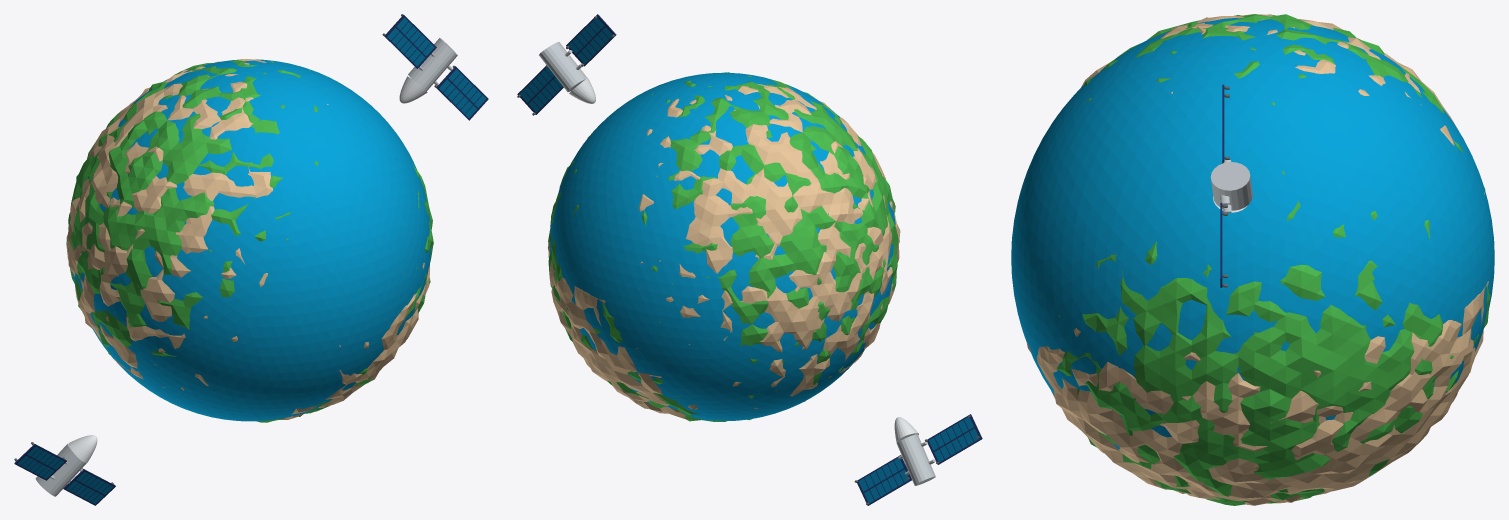
File: tinker.obj
3 renders of one model, left to right at view 1: azimuth 30°, elevation 25°; view 2: azimuth 150°, elevation 25°; view 3: azimuth 270°, elevation 25°, orthographic. The views are drawn at different scales.
Parts seen in each view (by area): view 1: group_0_40919, group_0_4634441, group_0_14860437, group_0_30377, group_0_12568524, group_0_1650274, group_0_14541540; view 2: group_0_40919, group_0_14860437, group_0_4634441, group_0_30377, group_0_12568524, group_0_1650274, group_0_14541540; view 3: group_0_40919, group_0_4634441, group_0_14860437, group_0_12568524.
Boxes of the visible parts, x1=… form: group_0_40919: x1=72, y1=59, x2=430, y2=421; group_0_4634441: x1=67, y1=60, x2=433, y2=422; group_0_14860437: x1=66, y1=59, x2=429, y2=419; group_0_30377: x1=17, y1=17, x2=486, y2=504; group_0_12568524: x1=35, y1=38, x2=457, y2=496; group_0_1650274: x1=14, y1=14, x2=488, y2=505; group_0_14541540: x1=69, y1=76, x2=427, y2=463; group_0_40919: x1=550, y1=72, x2=897, y2=420; group_0_14860437: x1=548, y1=73, x2=900, y2=419; group_0_4634441: x1=548, y1=72, x2=899, y2=421; group_0_30377: x1=519, y1=17, x2=979, y2=503; group_0_12568524: x1=539, y1=42, x2=935, y2=485; group_0_1650274: x1=517, y1=14, x2=982, y2=505; group_0_14541540: x1=569, y1=78, x2=918, y2=442; group_0_40919: x1=1011, y1=18, x2=1494, y2=449; group_0_4634441: x1=1040, y1=14, x2=1490, y2=505; group_0_14860437: x1=1026, y1=14, x2=1488, y2=505; group_0_12568524: x1=1210, y1=160, x2=1252, y2=213.
Bounding box in the file's own units: 122 × 105 × 80.
